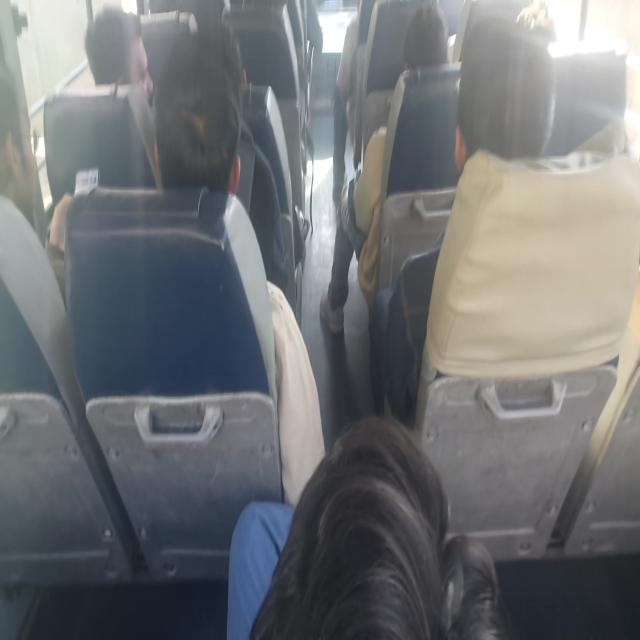person: (153, 24, 326, 507), (371, 14, 557, 425), (226, 414, 504, 638), (319, 4, 449, 334), (0, 64, 84, 428), (47, 5, 155, 252), (153, 25, 243, 194), (361, 4, 448, 165), (0, 64, 44, 241), (84, 5, 153, 106)
